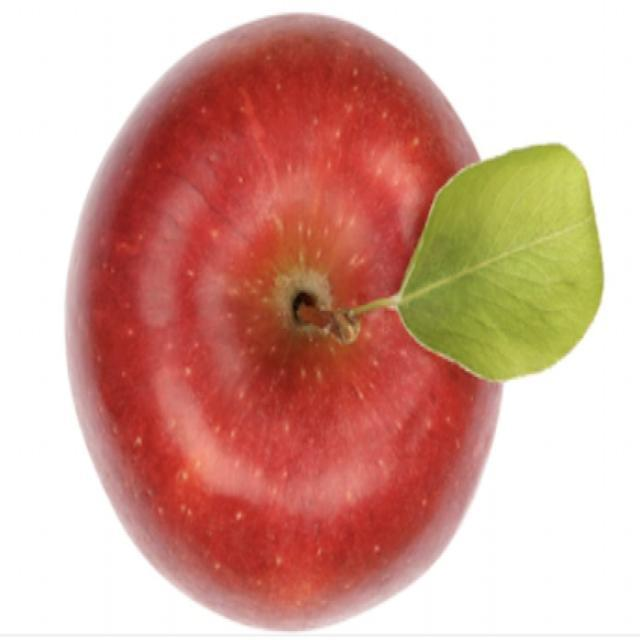Fresh Apple: (65, 17, 490, 605)
